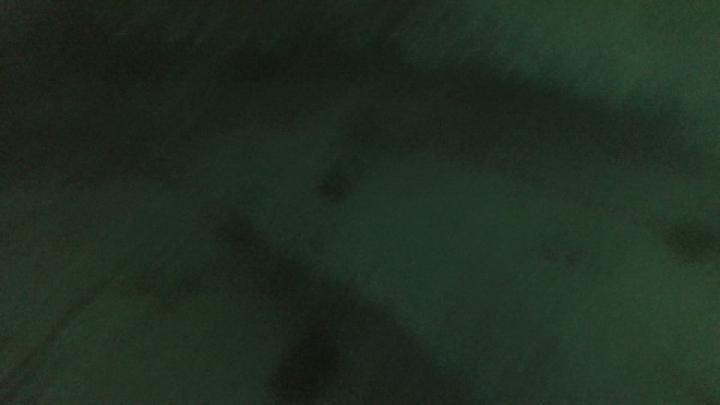echinus: (264, 327, 345, 404), (663, 212, 719, 264)
